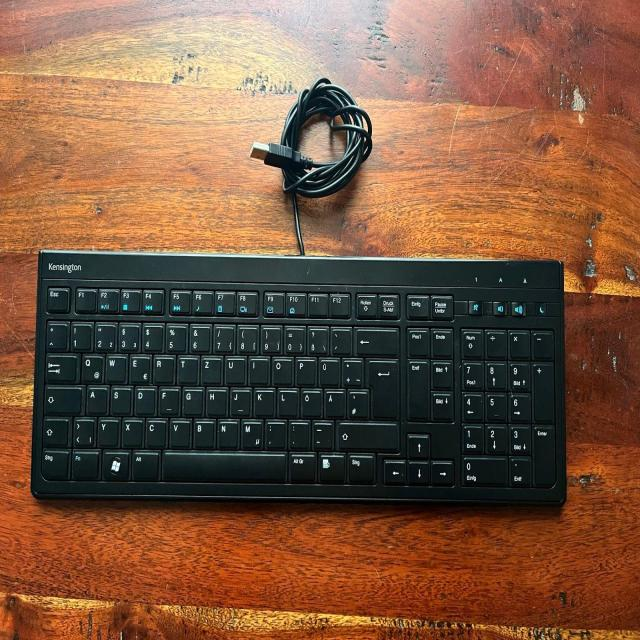0: (283, 324, 304, 353)
1: (70, 320, 91, 349)
2: (94, 321, 115, 349)
3: (117, 321, 138, 350)
4: (141, 321, 162, 350)
5: (164, 322, 185, 351)
6: (188, 322, 209, 351)
7: (212, 323, 233, 352)
8: (236, 323, 257, 352)
9: (259, 324, 280, 353)
a: (85, 384, 106, 413)
accent: (329, 325, 350, 352)
ae: (323, 387, 344, 416)
alt-left: (130, 448, 158, 479)
altgr-right: (287, 450, 314, 480)
b: (192, 417, 213, 446)
c: (145, 417, 166, 445)
caret: (44, 319, 66, 348)
comma: (264, 418, 285, 448)
d: (133, 384, 154, 414)
del: (354, 325, 396, 353)
e: (128, 353, 149, 382)
enter: (366, 357, 397, 417)
f: (157, 385, 178, 414)
g: (181, 385, 202, 414)
h: (205, 386, 226, 415)
hash: (346, 388, 367, 417)
i: (247, 354, 268, 383)
j: (229, 386, 249, 415)
k: (252, 387, 273, 415)
keyboard: (31, 249, 566, 506)
l: (276, 387, 296, 415)
less: (72, 416, 93, 446)
m: (239, 418, 261, 448)
minus: (310, 418, 332, 448)
n: (216, 418, 237, 447)
o: (270, 355, 291, 384)
oe: (299, 387, 320, 416)
p: (294, 355, 315, 384)
plus: (341, 356, 362, 386)
point: (287, 419, 308, 448)
q: (80, 353, 102, 382)
r: (152, 354, 173, 383)
s: (109, 384, 130, 413)
shift-left: (40, 415, 67, 445)
shift-lock: (42, 384, 80, 412)
shift-right: (336, 420, 398, 448)
space: (161, 450, 285, 481)
ss: (306, 325, 327, 354)
strg-left: (40, 447, 67, 478)
strg-right: (346, 452, 374, 482)
t: (176, 353, 196, 382)
tab: (44, 351, 75, 381)
u: (223, 354, 244, 383)
ue: (317, 356, 338, 385)
v: (168, 417, 189, 446)
w: (104, 352, 125, 381)
x: (121, 417, 142, 446)
y: (96, 416, 118, 445)
z: (200, 354, 221, 383)
